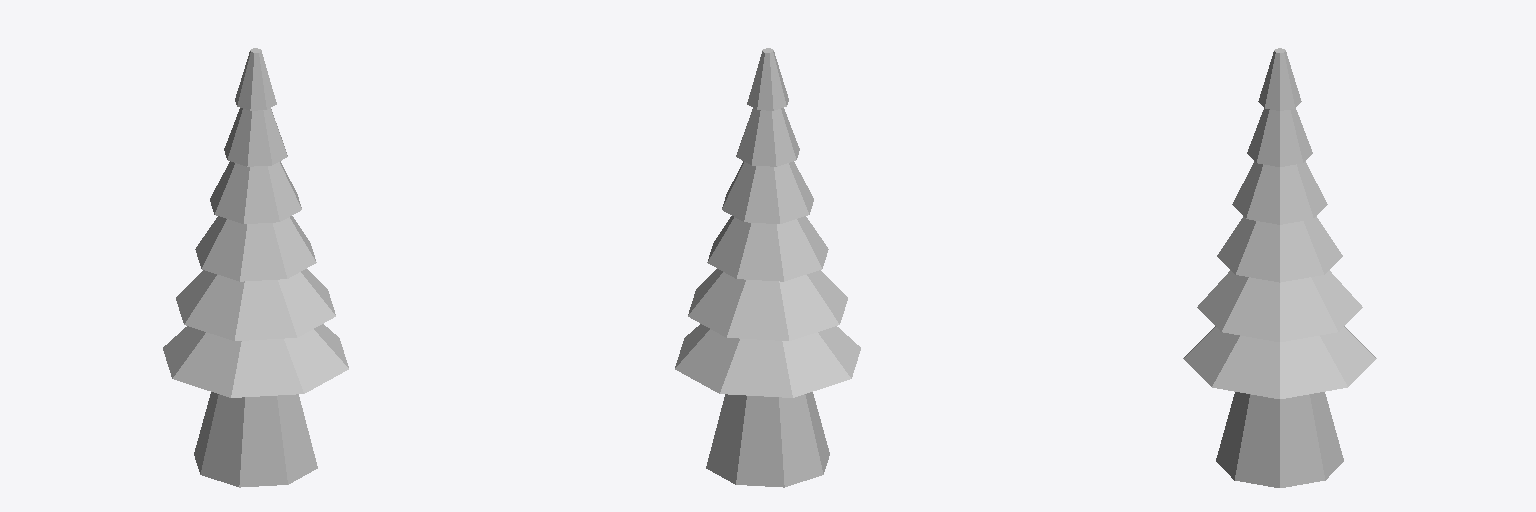
Rendered from Pine Tree.obj.
3 renders of one model, left to right at view 1: azimuth 30°, elevation 25°; view 2: azimuth 150°, elevation 25°; view 3: azimuth 270°, elevation 25°, orthographic.
Parts seen in each view (by area): view 1: Cylinder; view 2: Cylinder; view 3: Cylinder.
Part boxes in pixels (x1,y1,x2,y2): Cylinder: (163, 48, 348, 487); Cylinder: (675, 48, 860, 487); Cylinder: (1183, 48, 1376, 487).
Bounding box in the file's own units: 2.88 × 6.74 × 2.88.